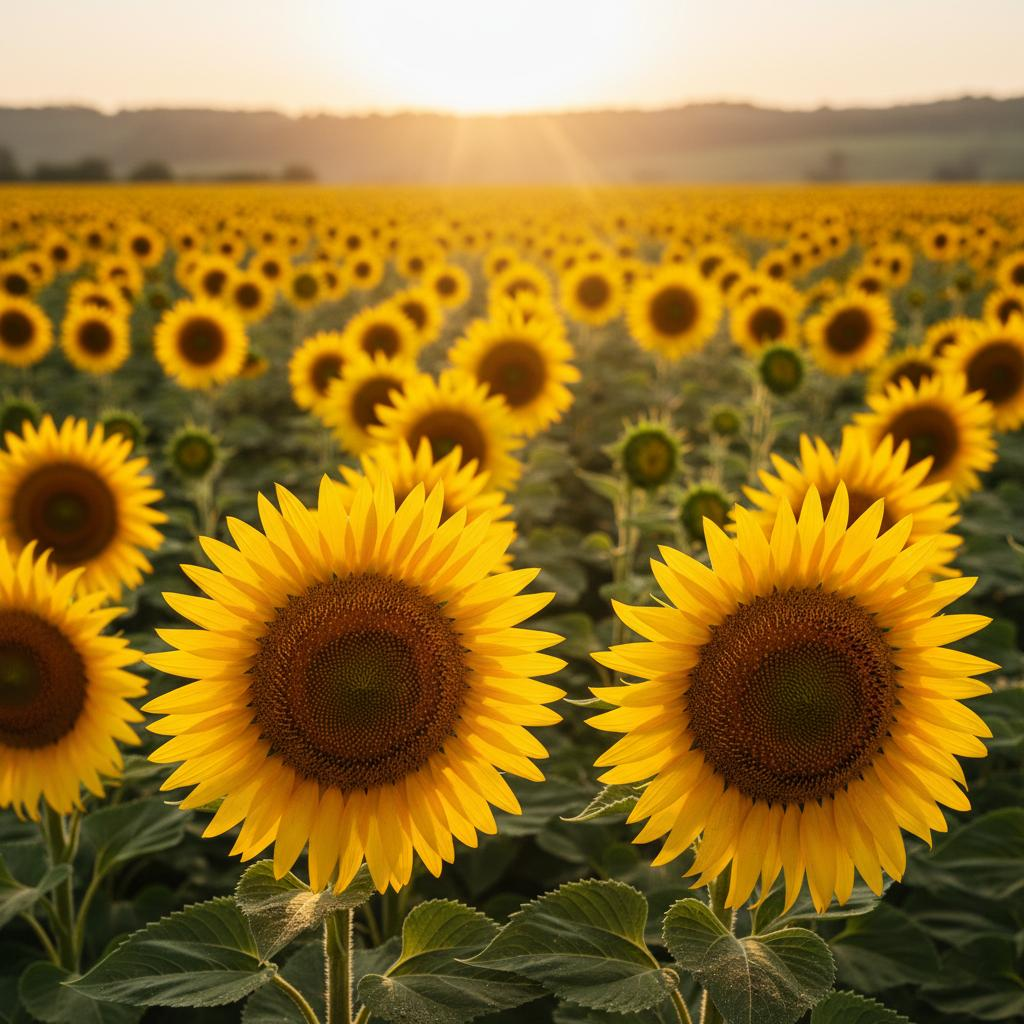sunflower: (140, 465, 569, 897), (582, 480, 998, 915)
